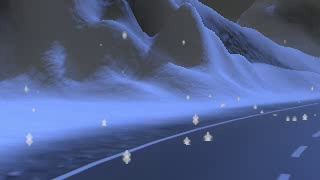Lane: (60, 102, 319, 179)
